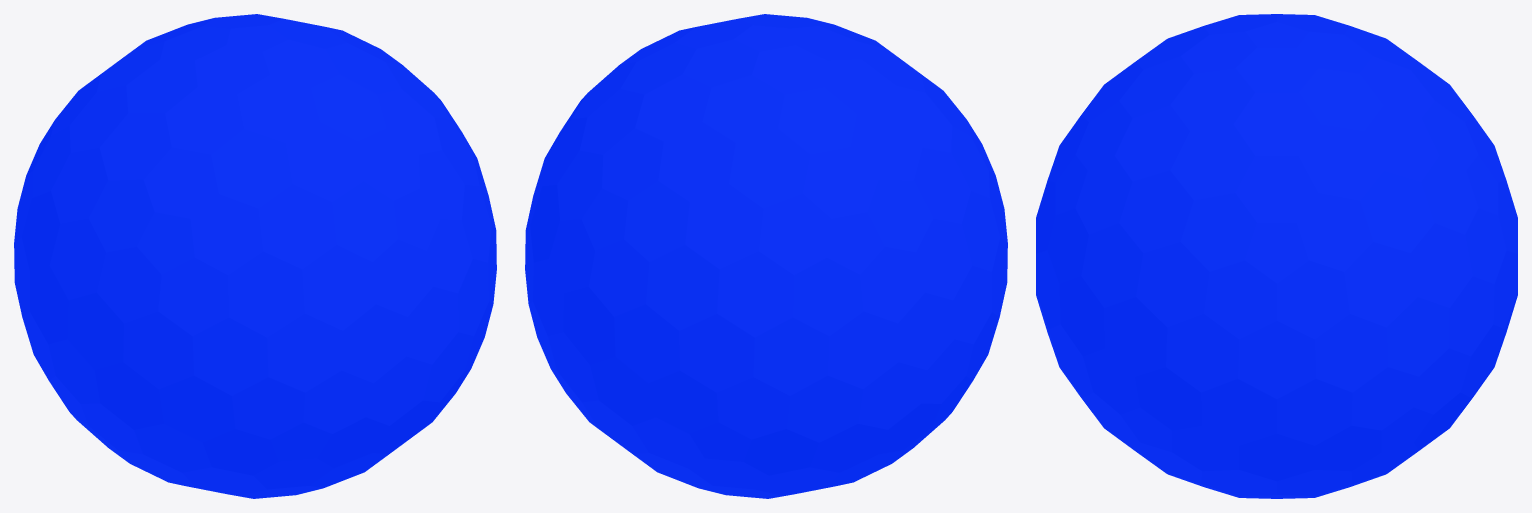
The model's file is barrier.glb.
3 renders of one model, left to right at view 1: azimuth 30°, elevation 25°; view 2: azimuth 150°, elevation 25°; view 3: azimuth 270°, elevation 25°, orthographic.
Visible parts, largest first — view 1: 立方体.054, 立方体.154, 立方体.056, 立方体.032, 立方体.055, 立方体.148, 立方体.033, 立方体.053, 立方体.072, 立方体.071, 立方体.031, 立方体.160 (+61 smaller); view 2: 立方体.046, 立方体.156, 立方体.044, 立方体.025, 立方体.045, 立方体.149, 立方体.024, 立方体.047, 立方体.068, 立方体.126, 立方体.023, 立方体.161 (+61 smaller); view 3: 立方体.080, 立方体.039, 立方体.061, 立方体.021, 立方体.037, 立方体.143, 立方体.144, 立方体.079, 立方体.130, 立方体.153, 立方体.157, 立方体.038 (+59 smaller).
Part boxes in pixels (x1=…): 立方体.054: x1=228, y1=251, x2=304, y2=337; 立方体.154: x1=258, y1=184, x2=336, y2=269; 立方体.056: x1=302, y1=245, x2=375, y2=330; 立方体.032: x1=211, y1=128, x2=292, y2=208; 立方体.055: x1=267, y1=314, x2=342, y2=392; 立方体.148: x1=192, y1=317, x2=268, y2=395; 立方体.033: x1=286, y1=122, x2=363, y2=201; 立方体.053: x1=190, y1=194, x2=263, y2=274; 立方体.072: x1=123, y1=311, x2=193, y2=389; 立方体.071: x1=158, y1=258, x2=228, y2=336; 立方体.031: x1=237, y1=75, x2=319, y2=142; 立方体.160: x1=165, y1=87, x2=243, y2=154; 立方体.046: x1=717, y1=251, x2=793, y2=337; 立方体.156: x1=685, y1=184, x2=763, y2=269; 立方体.044: x1=646, y1=245, x2=719, y2=330; 立方体.025: x1=729, y1=128, x2=810, y2=208; 立方体.045: x1=679, y1=314, x2=754, y2=392; 立方体.149: x1=753, y1=317, x2=829, y2=395; 立方体.024: x1=658, y1=122, x2=735, y2=201; 立方体.047: x1=758, y1=194, x2=831, y2=274; 立方体.068: x1=828, y1=311, x2=898, y2=389; 立方体.126: x1=793, y1=258, x2=863, y2=336; 立方体.023: x1=702, y1=75, x2=784, y2=142; 立方体.161: x1=778, y1=87, x2=856, y2=154; 立方体.080: x1=1238, y1=321, x2=1315, y2=398; 立方体.039: x1=1344, y1=242, x2=1417, y2=327; 立方体.061: x1=1136, y1=242, x2=1209, y2=327; 立方体.021: x1=1299, y1=124, x2=1383, y2=200; 立方体.037: x1=1170, y1=124, x2=1254, y2=200; 立方体.143: x1=1166, y1=314, x2=1238, y2=392; 立方体.144: x1=1315, y1=314, x2=1387, y2=392; 立方体.079: x1=1277, y1=260, x2=1349, y2=339; 立方体.130: x1=1204, y1=260, x2=1276, y2=339; 立方体.153: x1=1119, y1=170, x2=1193, y2=252; 立方体.157: x1=1360, y1=170, x2=1434, y2=252; 立方体.038: x1=1297, y1=193, x2=1373, y2=271.
Bounding box in the file's own units: 1.94 × 1.96 × 1.94.
